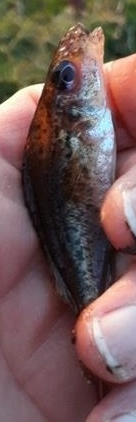Gymnocephalus cernuus: (20, 20, 116, 402)
